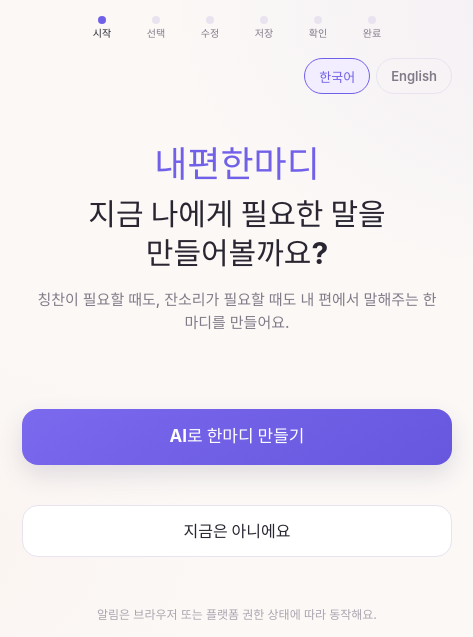
칭찬해줘 v0.4 home + check-in flow › persists locale and switches to English
Click the button "English" at (414,76), box left=376, top=58, right=452, bottom=94
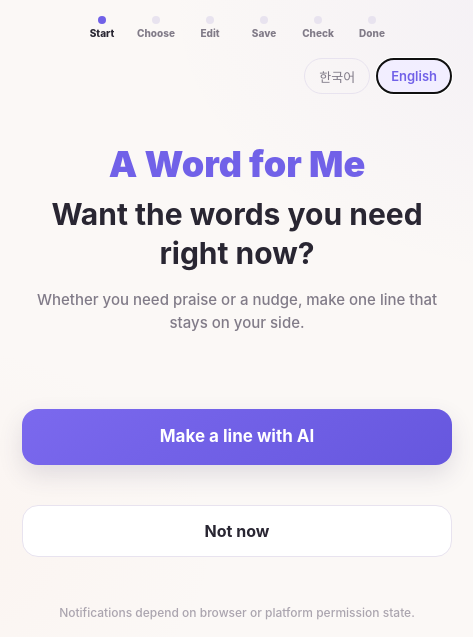
expect the heading "A Word for Me" is shown: met, box left=109, top=142, right=365, bottom=186
expect the button "Make a line with AI" is shown: met, box left=22, top=409, right=452, bottom=465
